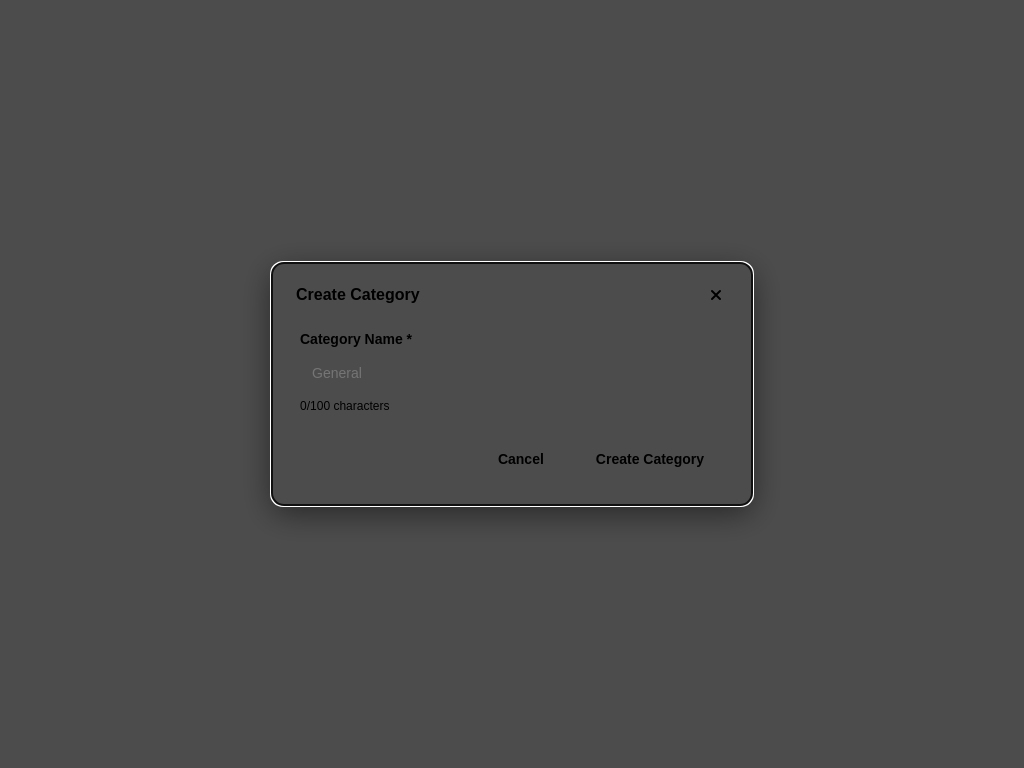
Test: CreateCategoryModal › submits valid form successfully
Type "New Category" into the field with placeholder "General" at {"x": 512, "y": 373}, box [300, 355, 724, 391]
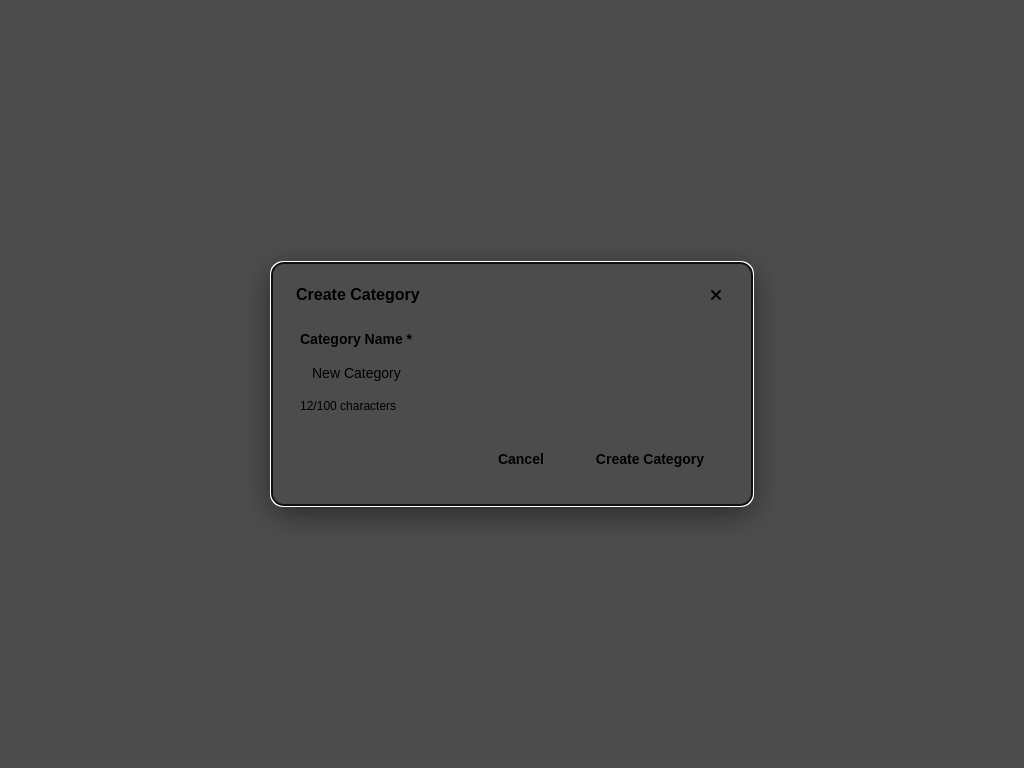
Click the button "Create Category" at {"x": 650, "y": 459}, box [576, 441, 724, 477]
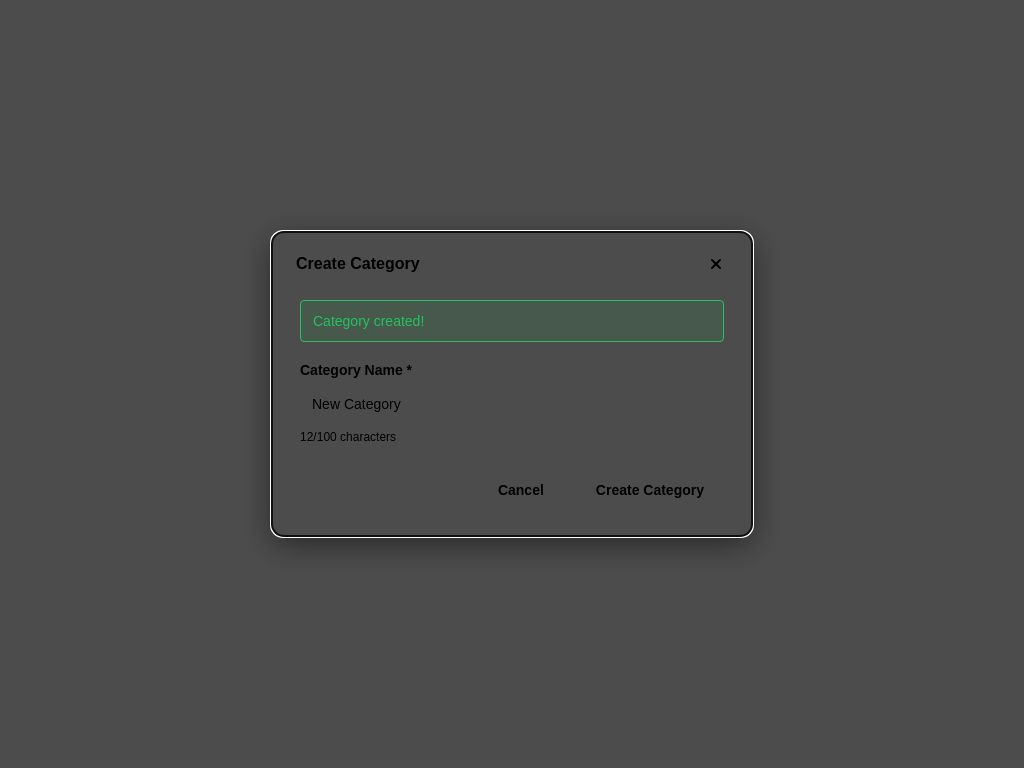
Result: the text "Category created!" is shown at [300, 300, 724, 342]
